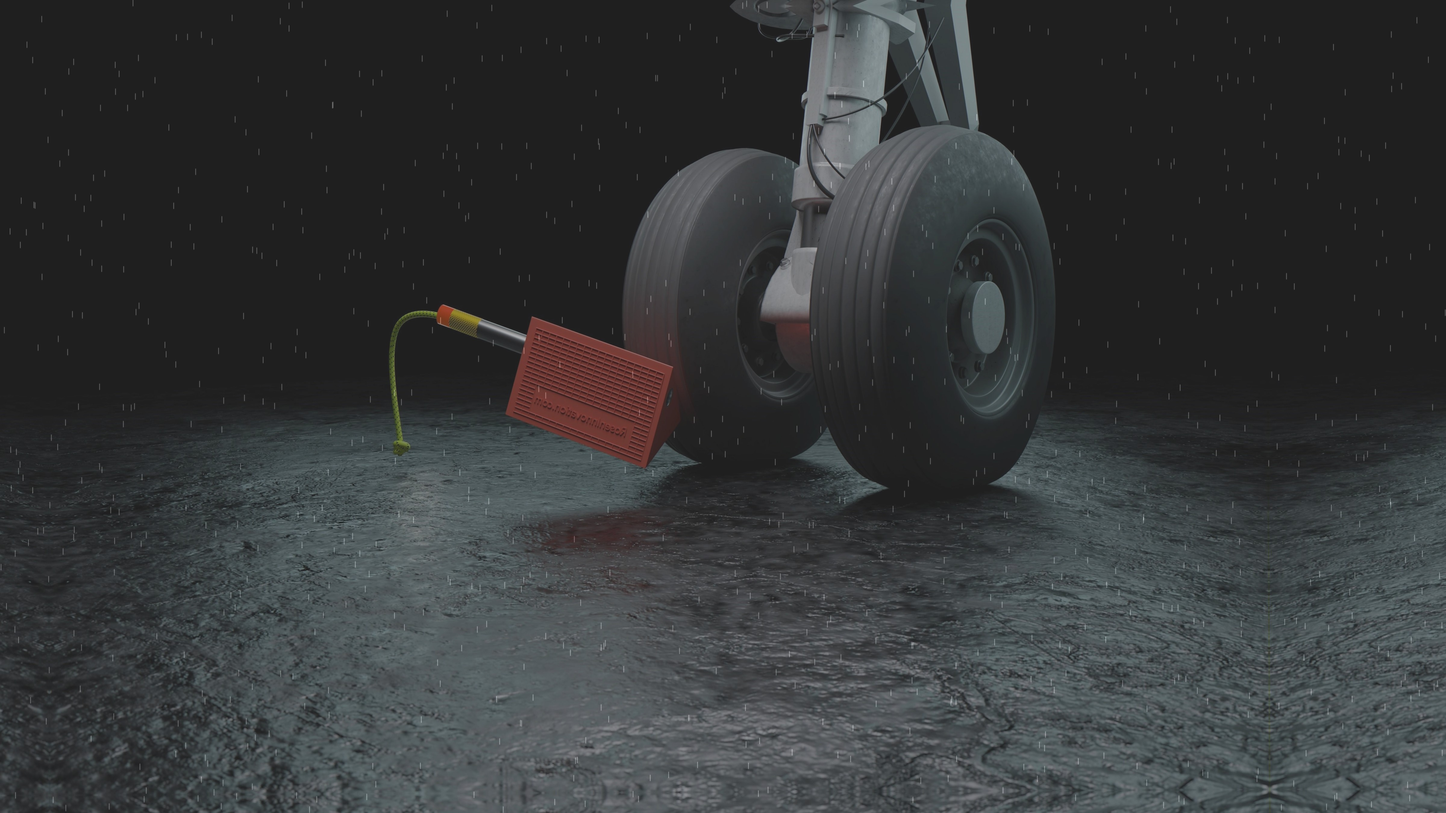chock: (502, 312, 686, 472)
wheel: (809, 121, 1061, 497), (622, 143, 837, 470)
